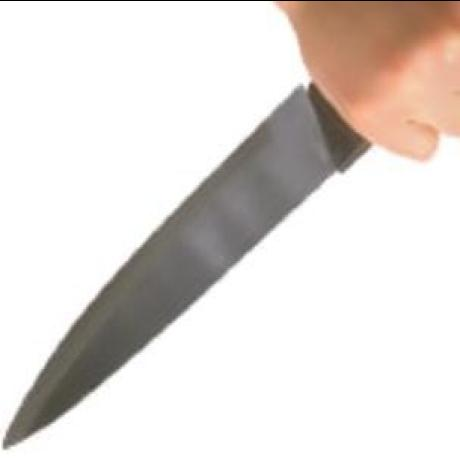weapon: (0, 76, 376, 450)
